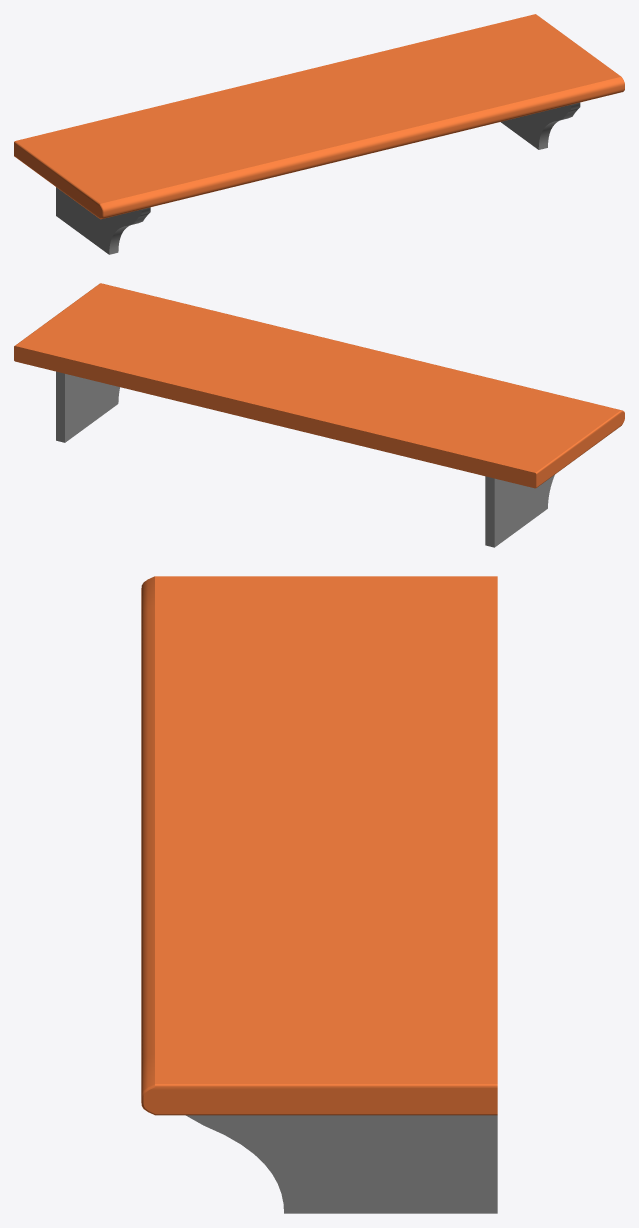
The model's file is 3D_ENVSHELF_001.FBX.
3 renders of one model, top to bottom at view 1: azimuth 30°, elevation 25°; view 2: azimuth 150°, elevation 25°; view 3: azimuth 270°, elevation 25°, orthographic. The views are drawn at different scales.
Parts seen in each view (by area): view 1: Box002; view 2: Box002; view 3: Box002.
Boxes of the visible parts, bbox=[...] form: Box002: bbox=[14, 14, 624, 254]; Box002: bbox=[14, 283, 624, 547]; Box002: bbox=[141, 576, 497, 1213].
Size of the model in its own units: 3514 by 545 by 1037.
